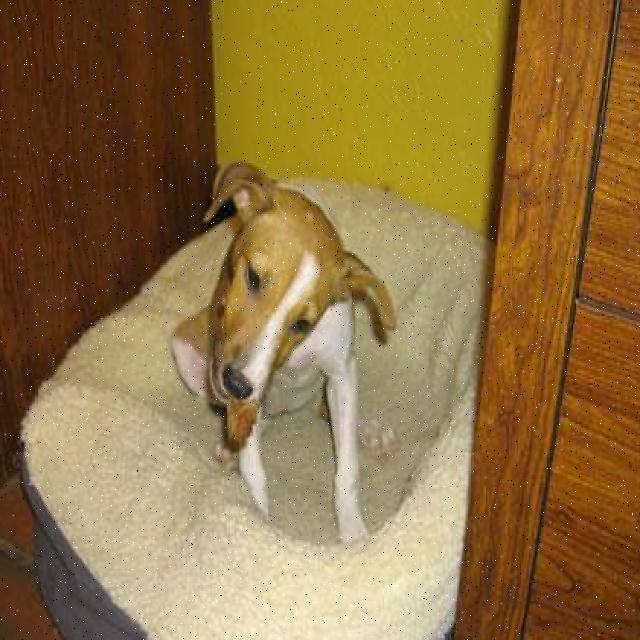Dog: (189, 143, 398, 418)
